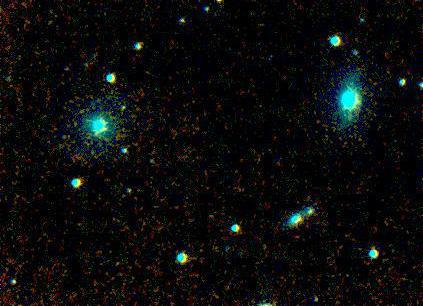star: (343, 86, 373, 116)
